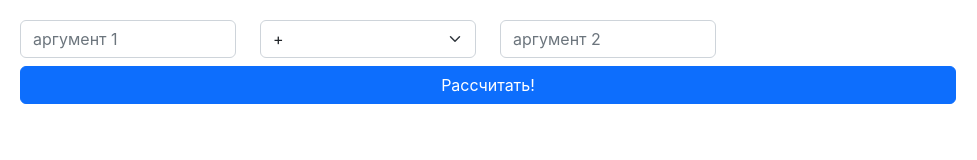
Test: App component › testing the subtraction of numbers
The width and height of the screenshot is (977, 160).
Select "-" in the list at (368, 39), box [260, 20, 476, 58]
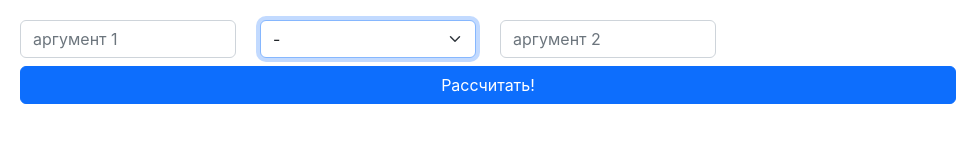
Type "10" into the field named "firstArg" at (128, 39), box [20, 20, 236, 58]
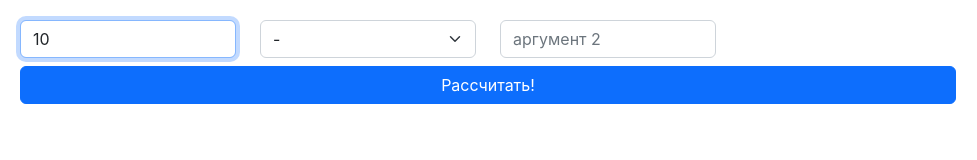
Type "10" into the field named "secondArg" at (608, 39), box [500, 20, 716, 58]
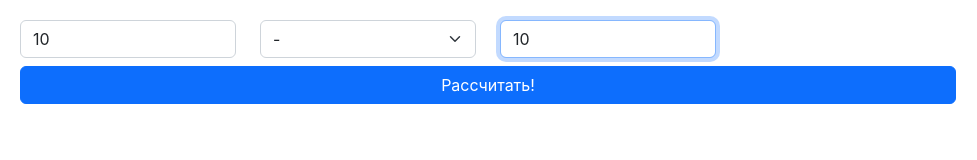
Click the submit button at (488, 85), box [20, 66, 956, 104]
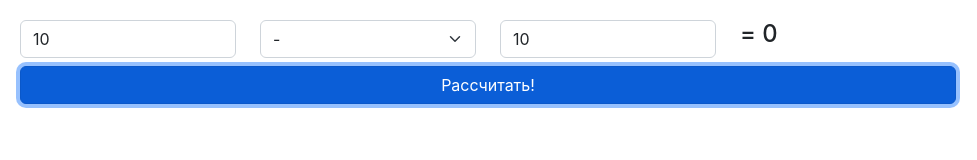
Result: the heading "= 0" is shown at [740, 19, 778, 48]
